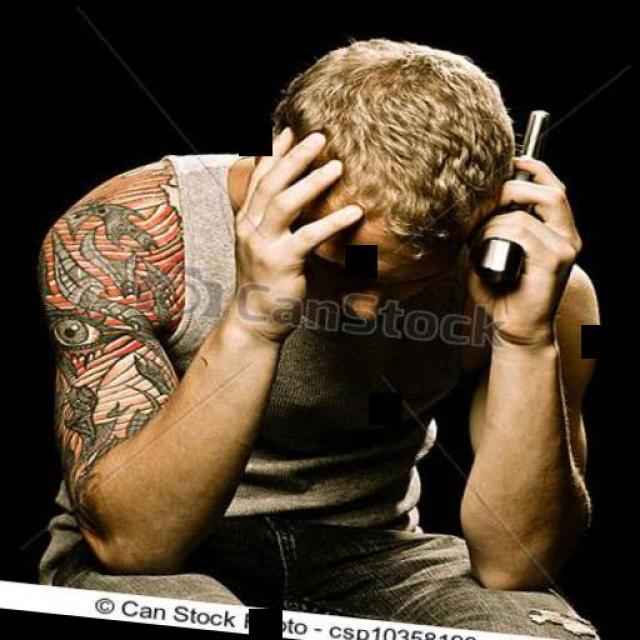gun: (465, 100, 555, 296)
